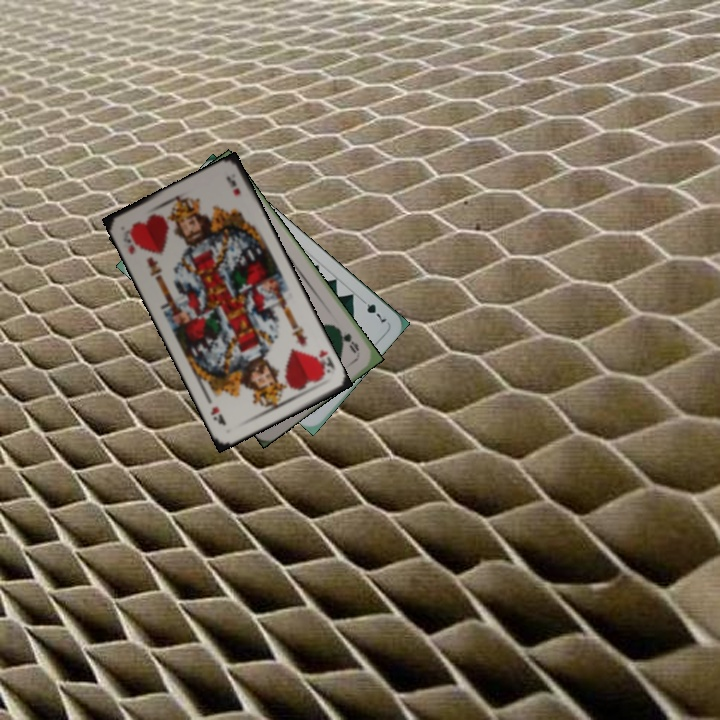G7: (356, 294, 389, 325)
GO: (332, 323, 362, 356)
HK: (311, 346, 338, 378), (119, 225, 141, 257)
